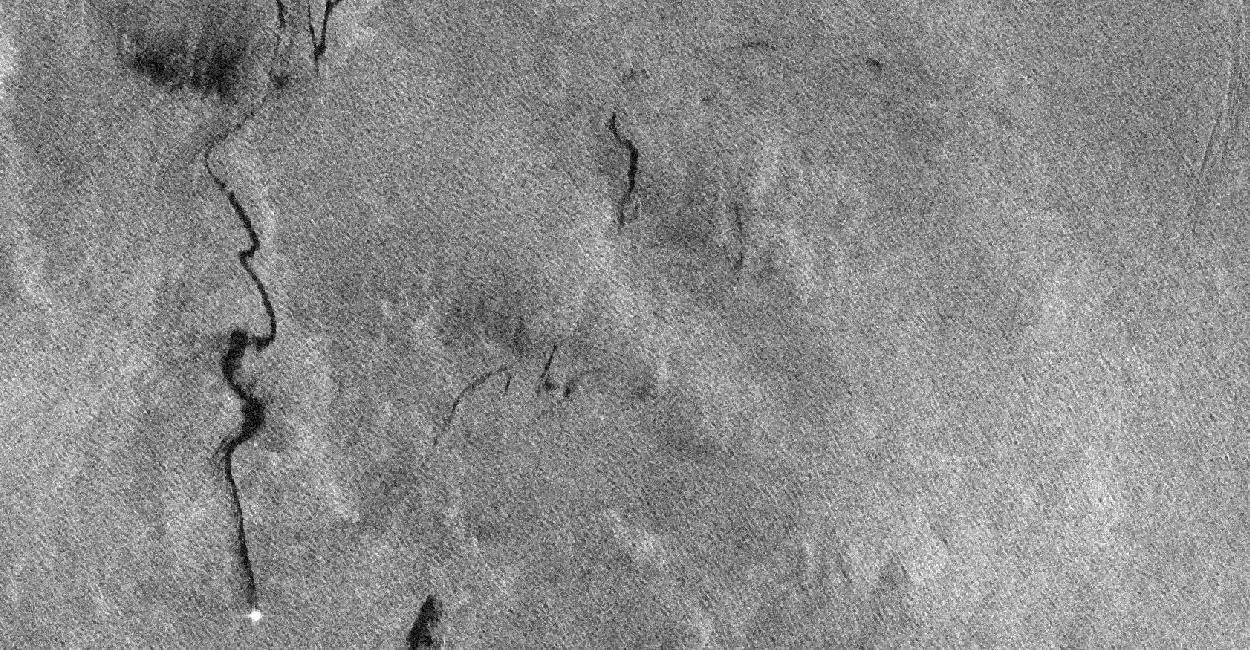Look-alike: (122, 26, 252, 108)
Oil Spill: (182, 0, 346, 610), (606, 110, 640, 210), (394, 588, 448, 650), (314, 22, 320, 34), (280, 46, 282, 51), (198, 154, 200, 158)
